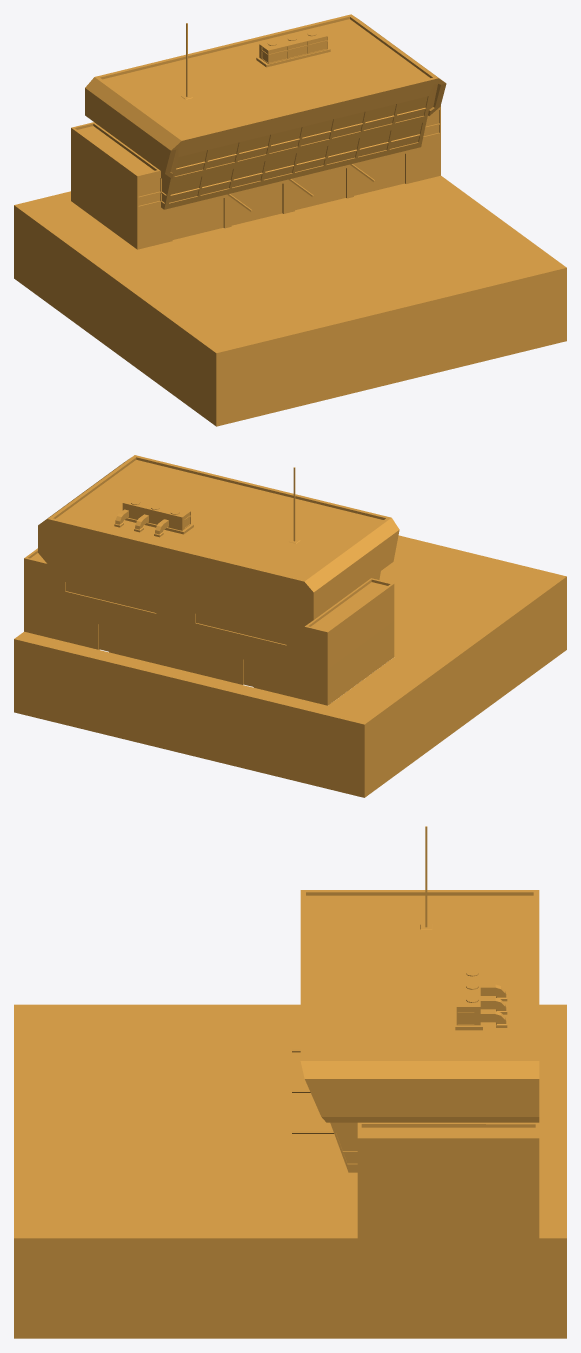
The model's file is tile-race-track-pit-lane-start.fbx.
The picture shows the model from 3 angles, top to bottom: view 1: azimuth 30°, elevation 25°; view 2: azimuth 150°, elevation 25°; view 3: azimuth 270°, elevation 25°; orthographic projection. The views are drawn at different scales.
Parts seen in each view (by area): view 1: tile-race-track-pit-lane-start; view 2: tile-race-track-pit-lane-start; view 3: tile-race-track-pit-lane-start.
Part boxes in pixels (x1,y1,x2,y2): tile-race-track-pit-lane-start: (14, 14, 566, 426); tile-race-track-pit-lane-start: (14, 455, 566, 797); tile-race-track-pit-lane-start: (14, 826, 566, 1338).
Bounding box in the file's own units: 30 × 21.51 × 30.
